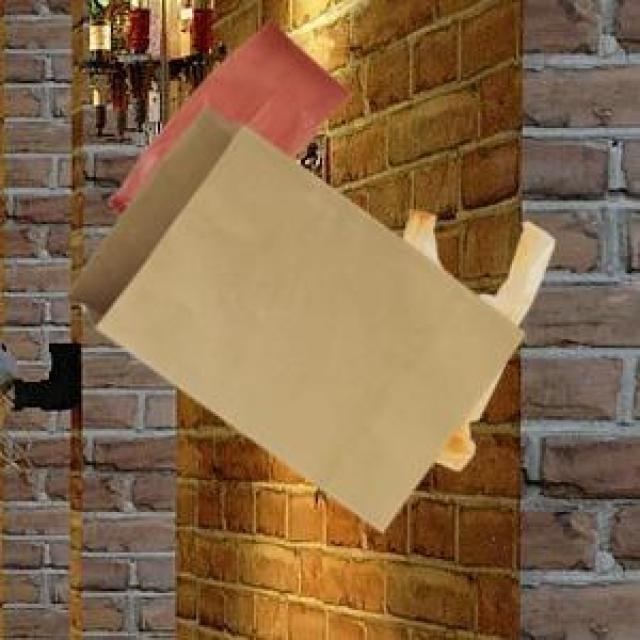paper: (64, 105, 521, 527)
